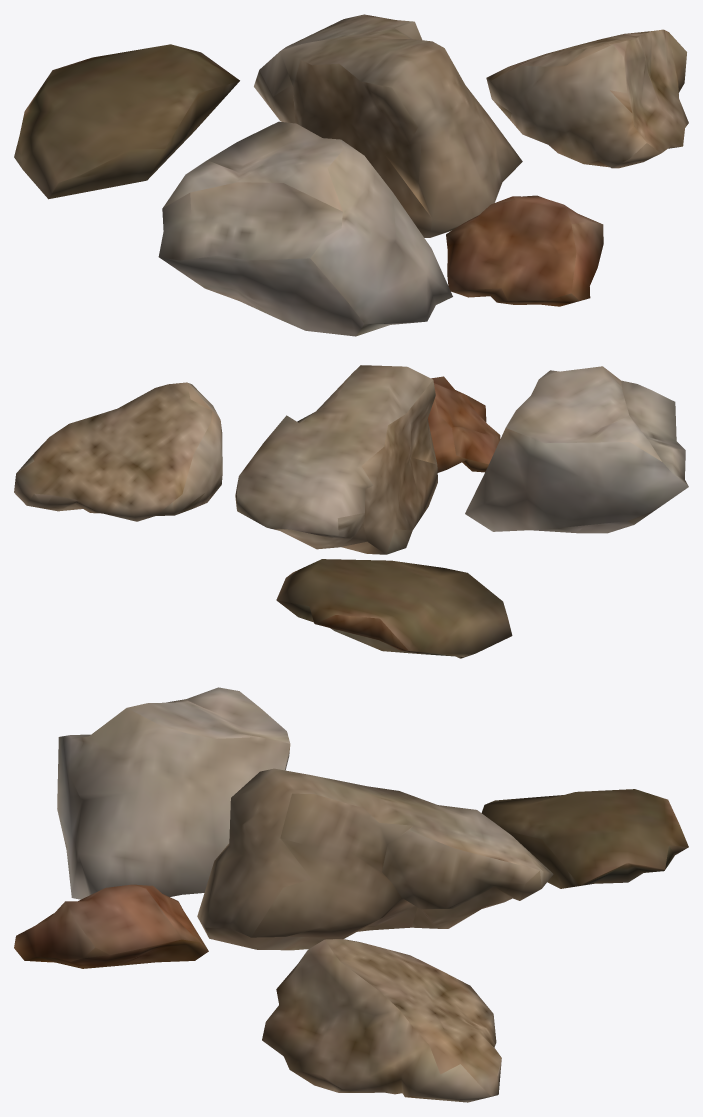
Rendered from ph_stones.glb.
3 renders of one model, top to bottom at view 1: azimuth 30°, elevation 25°; view 2: azimuth 150°, elevation 25°; view 3: azimuth 270°, elevation 25°, orthographic. The views are drawn at different scales.
Parts seen in each view (by area): view 1: ph_stones_lod1; view 2: ph_stones_lod1; view 3: ph_stones_lod1.
Part boxes in pixels (bbox=[...]): ph_stones_lod1: bbox=[14, 14, 688, 336]; ph_stones_lod1: bbox=[14, 365, 688, 658]; ph_stones_lod1: bbox=[14, 687, 688, 1102].
Size of the model in its own units: 0.3198 by 0.0829 by 0.2858.
1 material, 1 textured.
